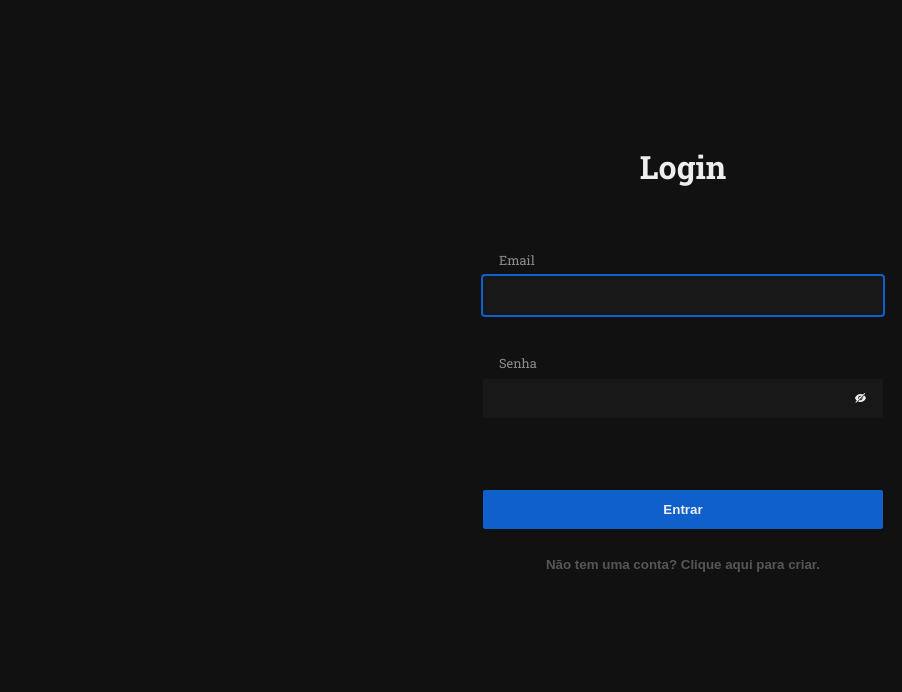
Test case: Authentication › Create user › Creates a new user
Click the button with test id "form" at (683, 565), box [483,545,883,584]
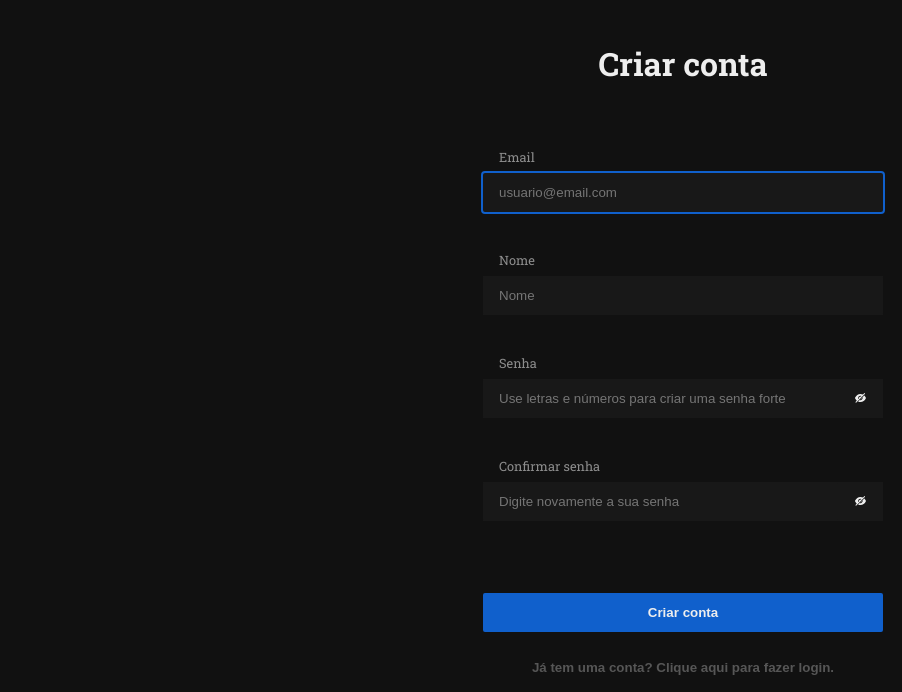
Type "user01@email.com" into the field with test id "email-input" at (683, 193), box [483,173,883,212]
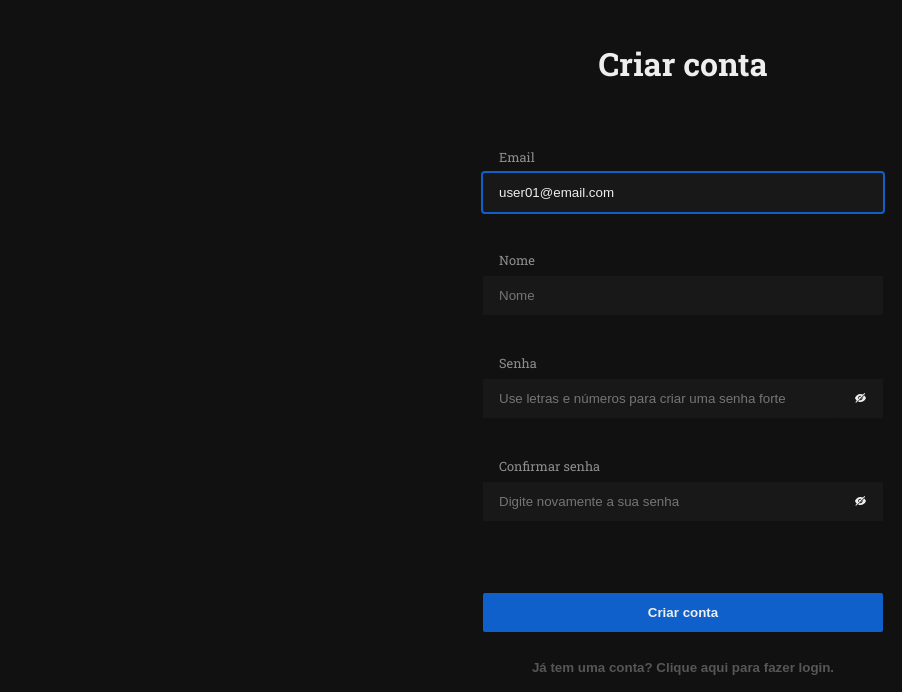
Type "user01" into the field with test id "name-input" at (683, 296), box [483,276,883,315]
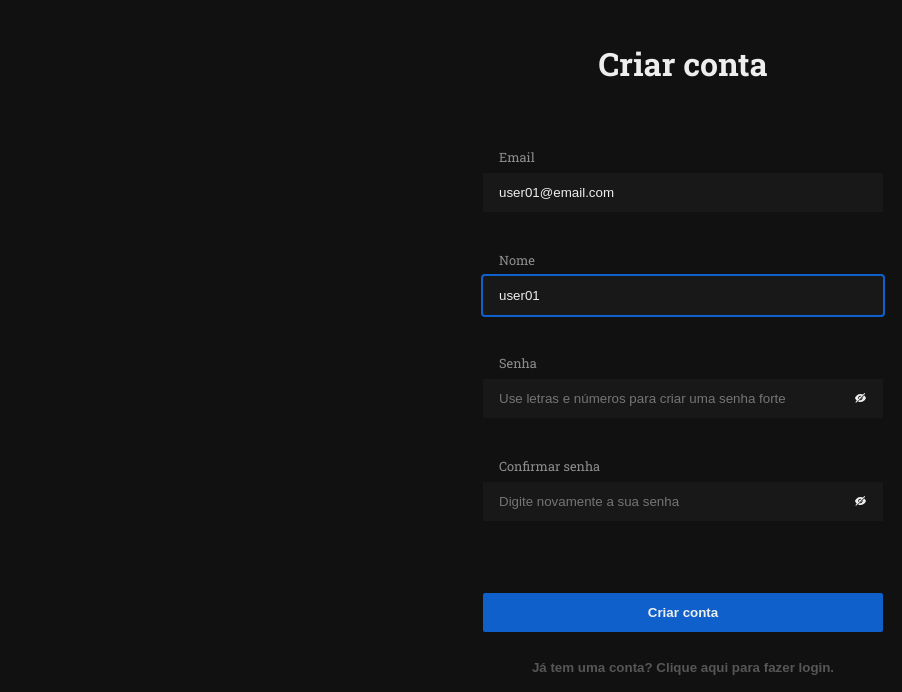
Type "Password123" into the password field with test id "password-input" at (661, 399), box [483,379,838,418]
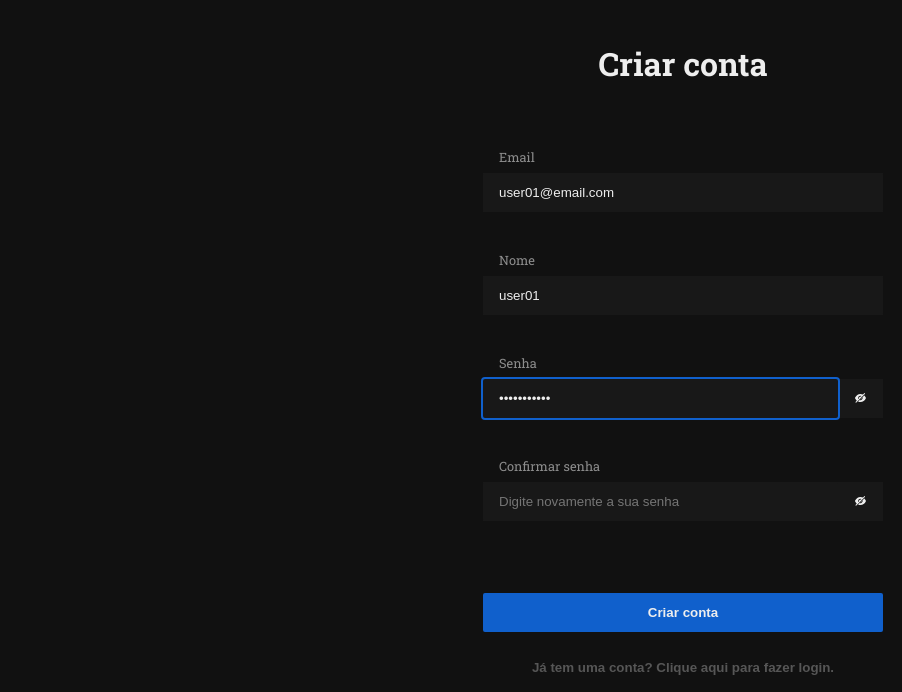
Type "Password123" into the password field with test id "passwordCheck-input" at (661, 502), box [483,482,838,521]
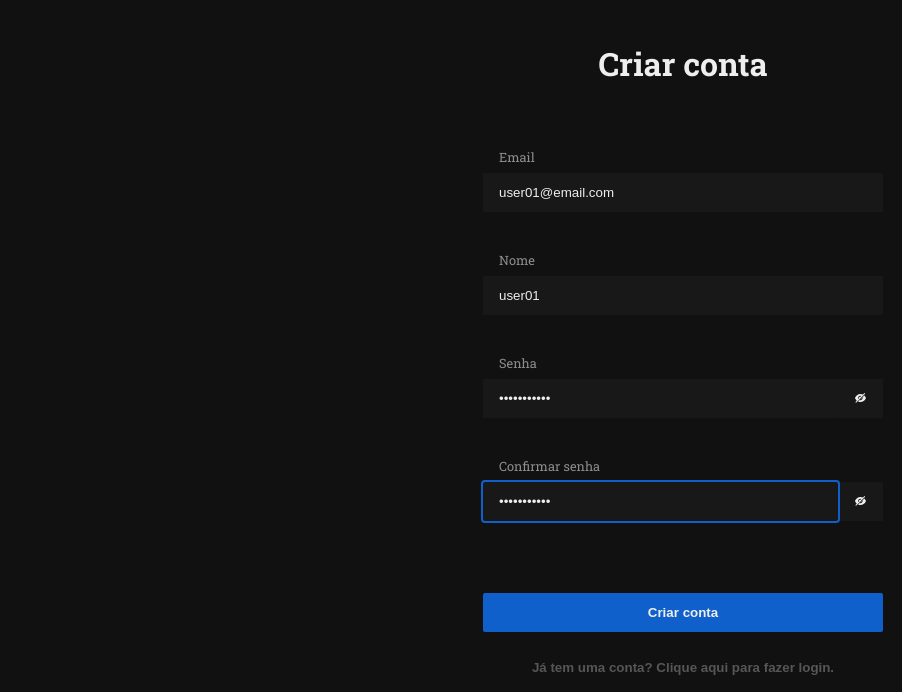
Click the button with test id "submit" at (683, 613), box [483,593,883,632]
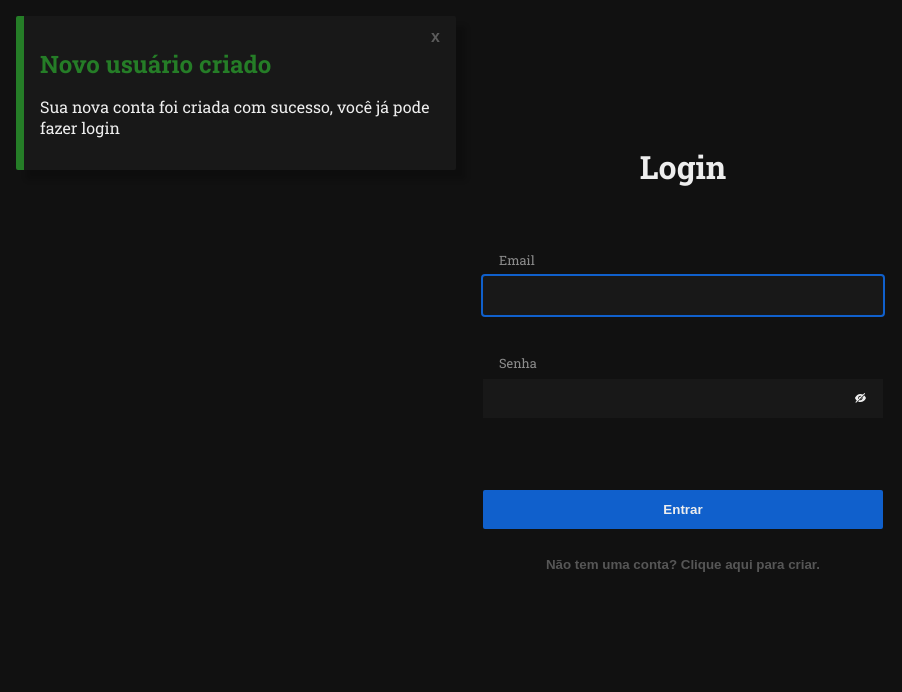
Now the heading with class "title" reads "Novo usuário criado", box [40,48,271,80]
